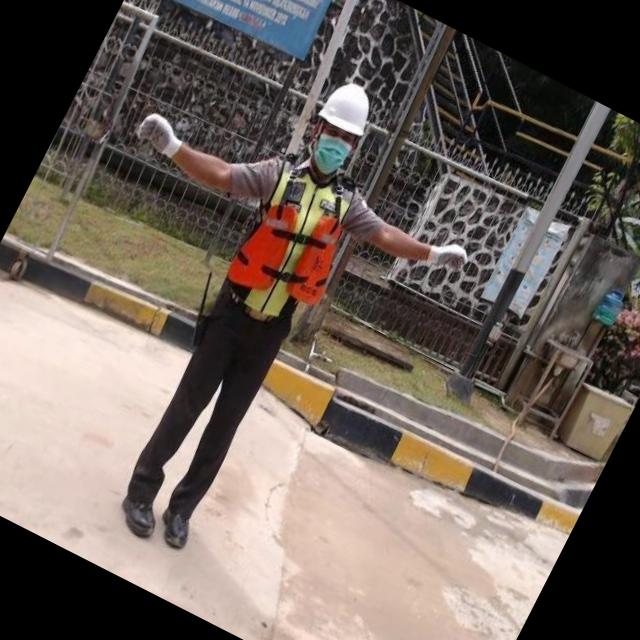hard_hat: (315, 76, 384, 140)
safety_vest: (218, 152, 374, 324)
vehicle: (0, 0, 552, 640)
work_boots: (110, 481, 170, 542), (152, 502, 202, 556)
